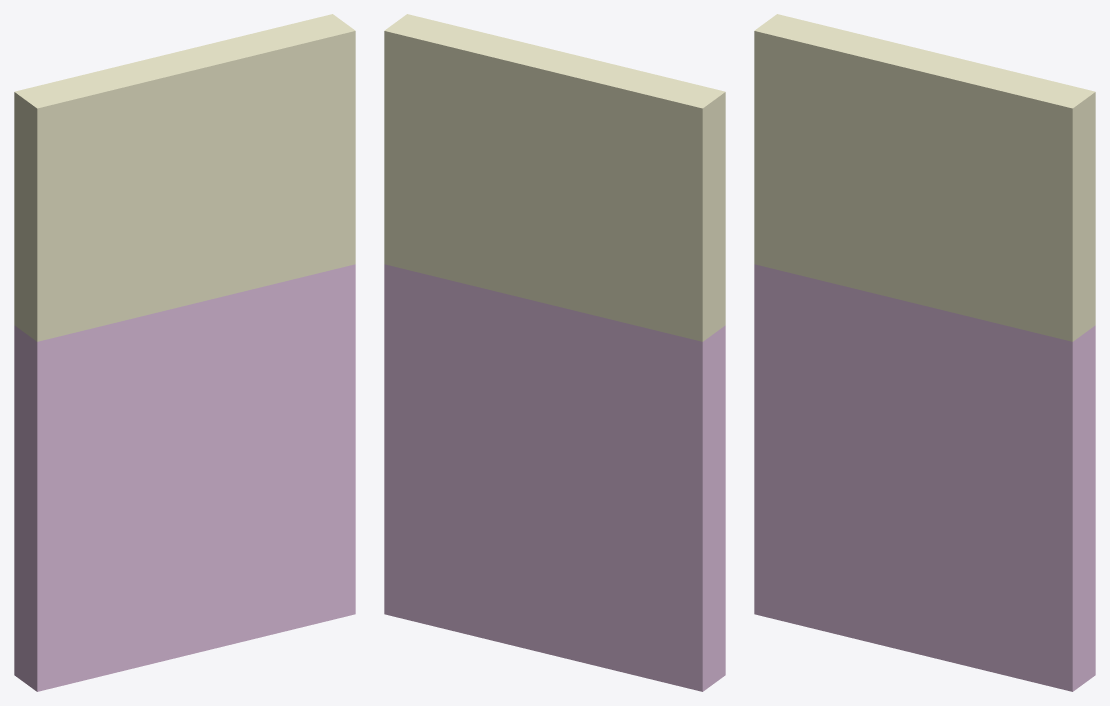
The model's file is Wall_C.glb.
3 renders of one model, left to right at view 1: azimuth 30°, elevation 25°; view 2: azimuth 150°, elevation 25°; view 3: azimuth 330°, elevation 25°, orthographic.
Parts seen in each view (by area): view 1: Wall C; view 2: Wall C; view 3: Wall C.
Part boxes in pixels (<box>): Wall C: <box>14,14,355,691</box>; Wall C: <box>384,14,725,691</box>; Wall C: <box>754,14,1095,691</box>.
Bounding box in the file's own units: 2 × 3.5 × 0.25.
